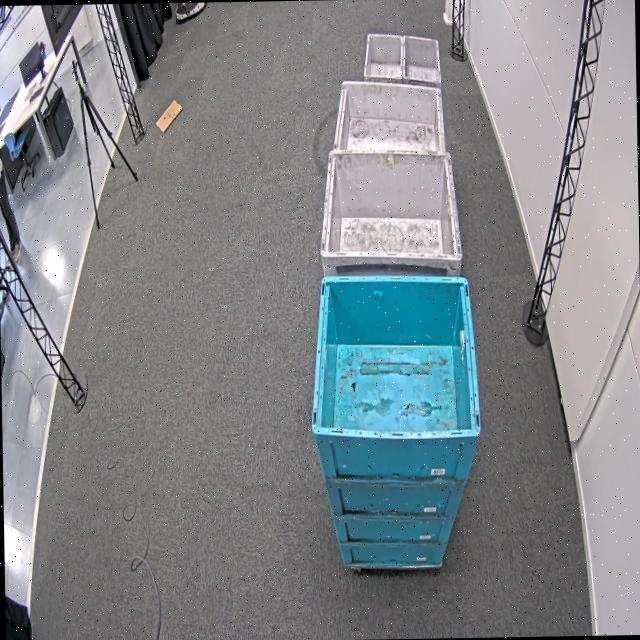Roll3G: (328, 77, 449, 160)
Roll4G: (316, 146, 464, 267)
Roll8G: (361, 29, 443, 88)
RollB4: (306, 268, 484, 446)
